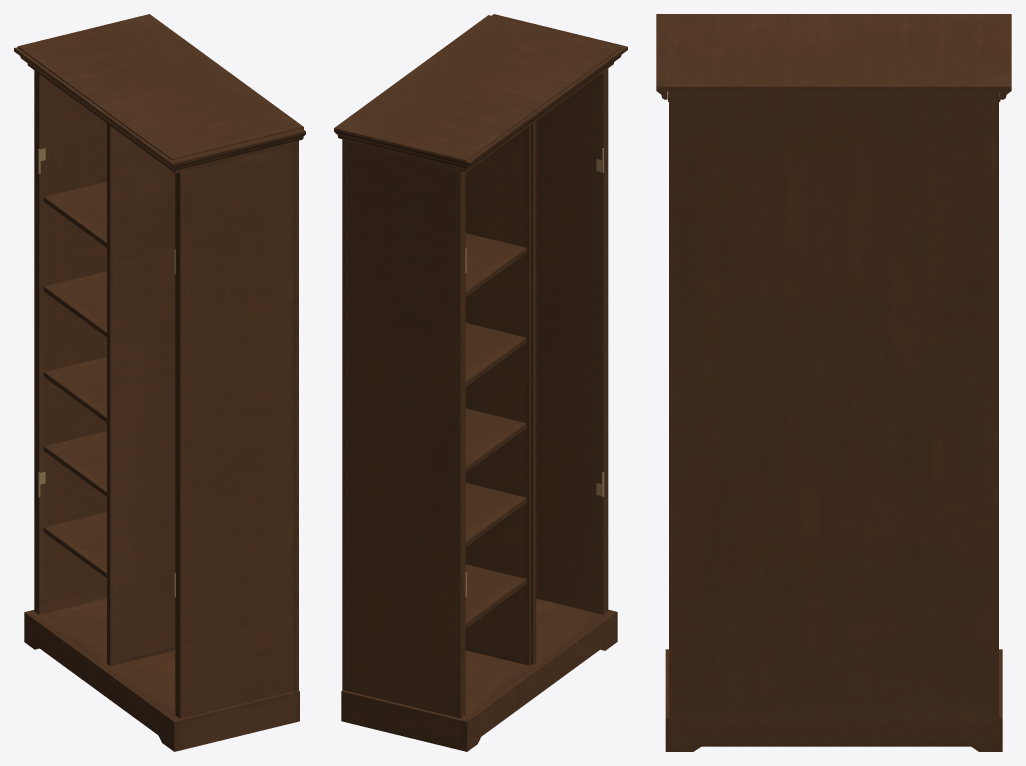
File: SM_Cabinets_B2.fbx
3 views of the same model, side by side, from view 1: azimuth 30°, elevation 25°; view 2: azimuth 150°, elevation 25°; view 3: azimuth 270°, elevation 25° (orthographic). The views are drawn at different scales.
Visible parts, largest first — view 1: SM_Cabinets_B2; view 2: SM_Cabinets_B2; view 3: SM_Cabinets_B2.
Part boxes in pixels (box(x1,y1,x2,y2)): SM_Cabinets_B2: box(14, 14, 305, 751); SM_Cabinets_B2: box(334, 14, 627, 751); SM_Cabinets_B2: box(656, 14, 1011, 751).
Bounding box in the file's own units: 52.52 × 106 × 220.
Materials: 2 (2 with a texture image).
